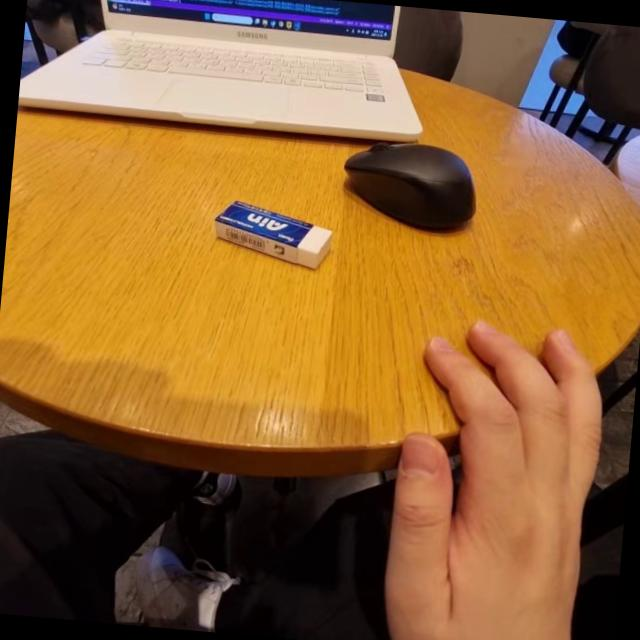eraser: (212, 196, 336, 268)
hand: (376, 308, 623, 640)
mouse: (318, 136, 494, 240)
